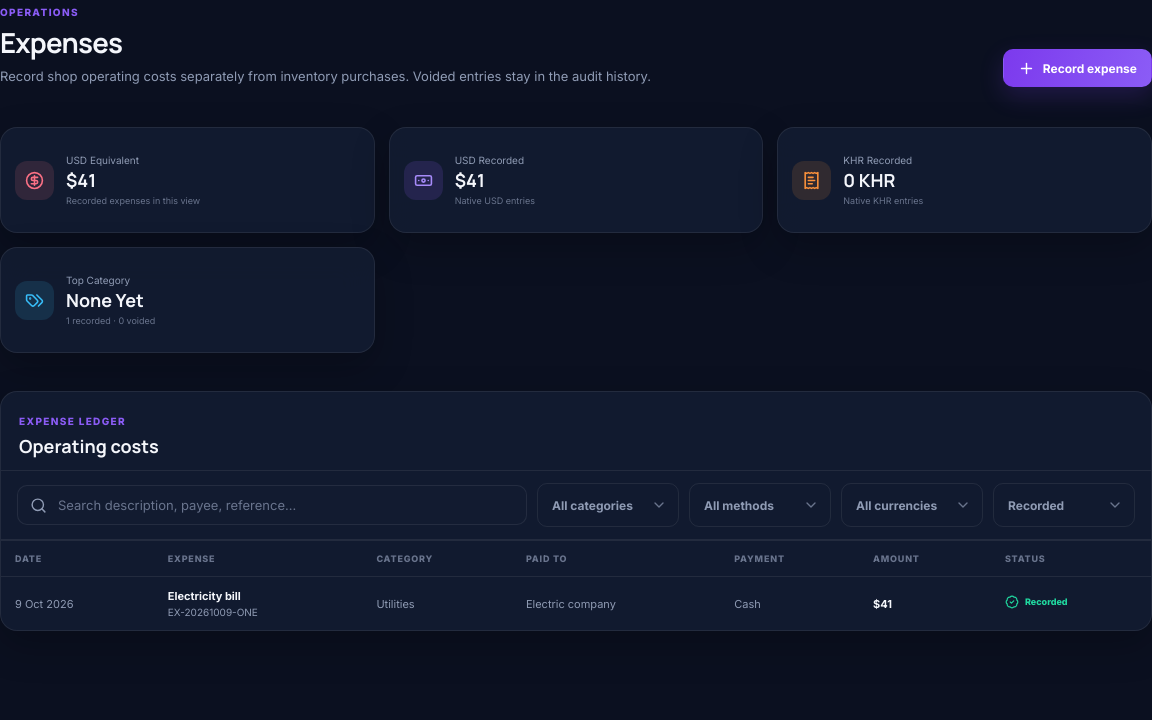
Test: ExpensePage › reuses the ledger, summary, mobile-card, and audited detail patterns
The image size is (1152, 720).
Expected: the element named "Expense summary" shows "$41", [66,168,96,192]
Expected: the text "Electricity bill" is shown, [168,589,241,603]
Step 1. Click the text "EX-20261009-ONE" → (576, 603), box [1,577,1151,630]
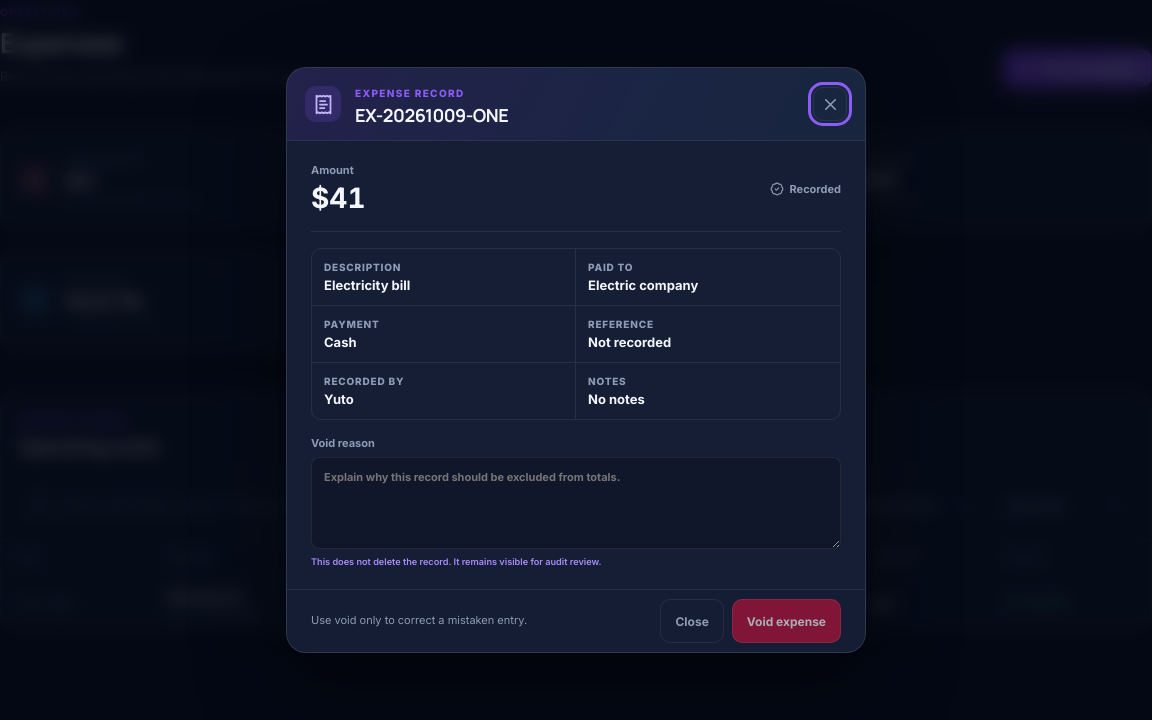
Expected: the element with class "expense-detail-shell" is shown, [287,141,865,652]
Expected: the footer with class "expense-modal-actions" is shown, [287,589,865,652]
Expected: the text "Electric company" is shown, [588,277,698,293]
